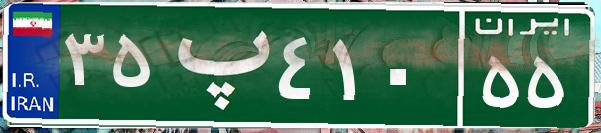0: (385, 28, 445, 110)
1: (330, 28, 385, 110)
3: (57, 26, 110, 107)
4: (273, 28, 330, 110)
5: (475, 38, 525, 113), (110, 28, 158, 105), (525, 38, 570, 115)
پ: (158, 15, 273, 115)
